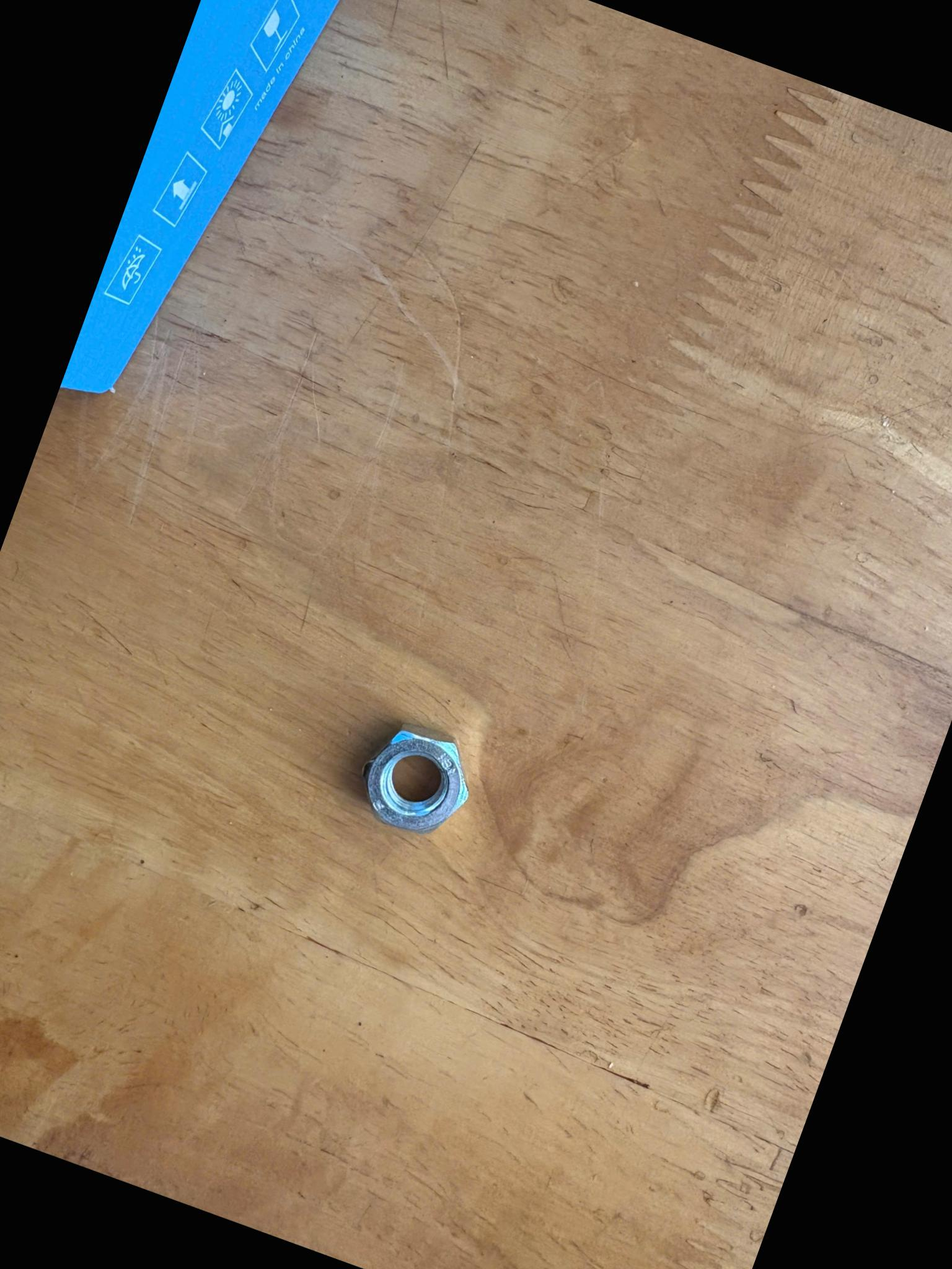nut: (339, 696, 514, 863)
